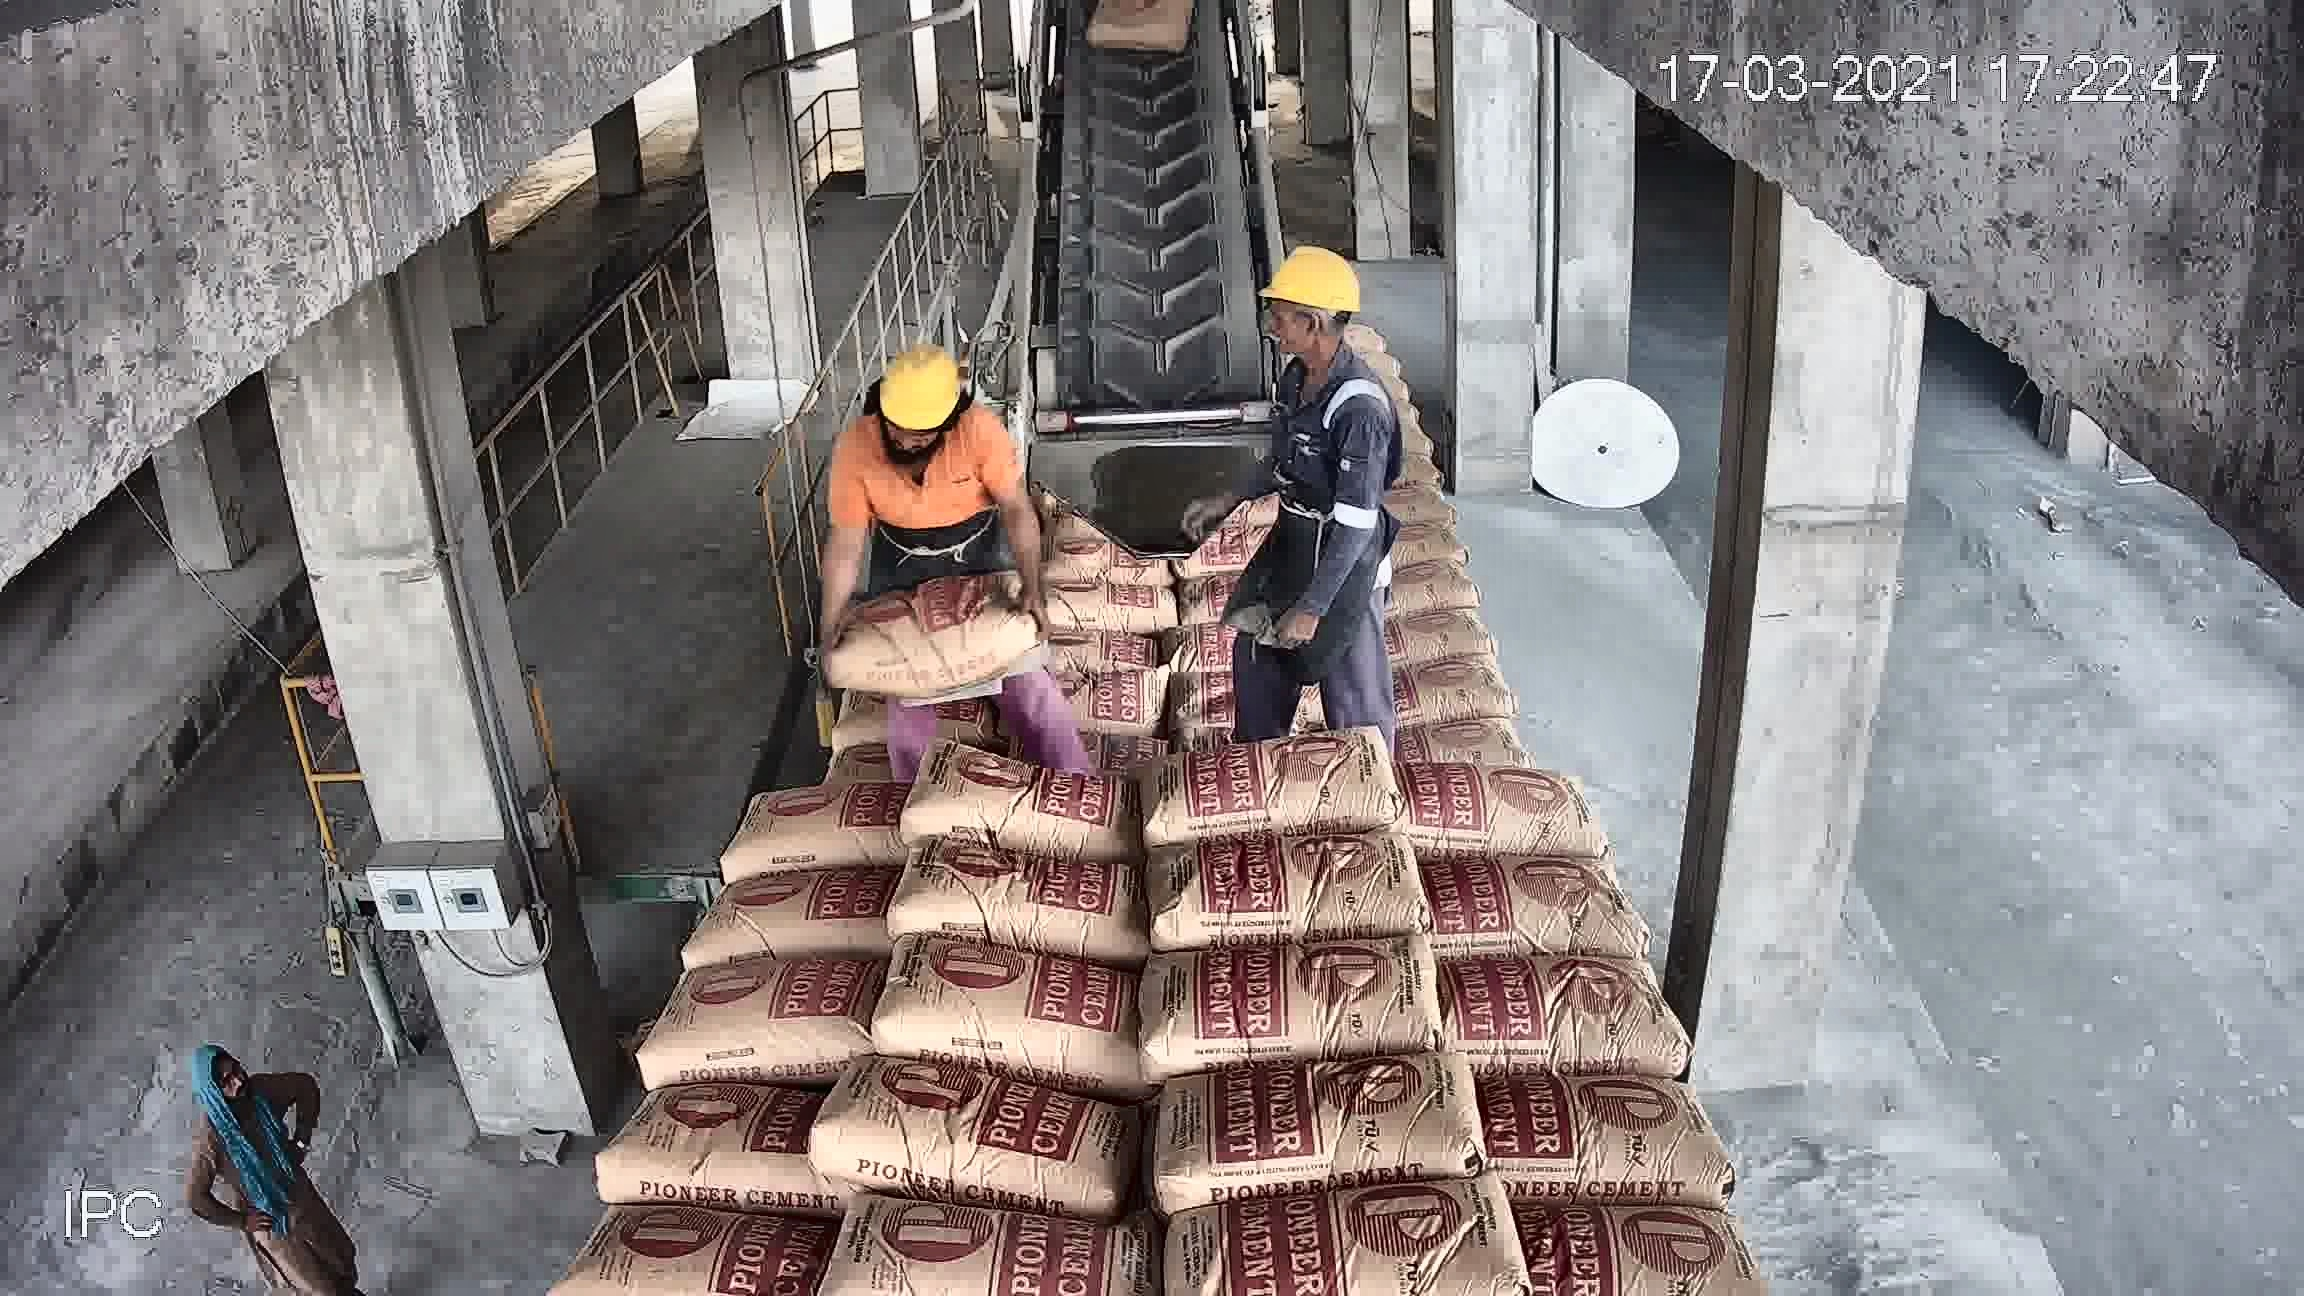bag: (1100, 101, 1204, 225)
bag_h: (1138, 937, 1445, 1078), (798, 1087, 1166, 1196), (1169, 1184, 1514, 1296), (1166, 1036, 1475, 1161), (1418, 942, 1688, 1082), (1138, 829, 1416, 961), (1486, 1060, 1719, 1201), (859, 964, 1157, 1071), (633, 957, 881, 1086), (1143, 733, 1396, 858), (869, 853, 1161, 949), (614, 1067, 831, 1195), (851, 1211, 1174, 1294), (873, 772, 1147, 870), (1516, 1199, 1777, 1296), (1146, 665, 1397, 758), (1179, 565, 1381, 679), (673, 875, 904, 970), (703, 785, 899, 892), (567, 1204, 826, 1283), (1435, 859, 1650, 949), (926, 685, 1177, 760), (771, 617, 956, 711), (745, 699, 927, 791), (1048, 481, 1177, 608), (1423, 775, 1617, 851), (956, 606, 1154, 679), (1397, 692, 1563, 777), (1385, 619, 1529, 699), (1169, 513, 1275, 576), (1177, 438, 1268, 495), (1176, 484, 1282, 524), (848, 601, 964, 633)
belt: (1038, 21, 1282, 421)
